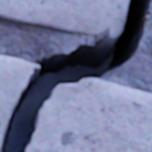brick: (0, 0, 125, 35)
broken_brick: (25, 78, 151, 151), (0, 56, 39, 146)
crack: (0, 0, 151, 151)
